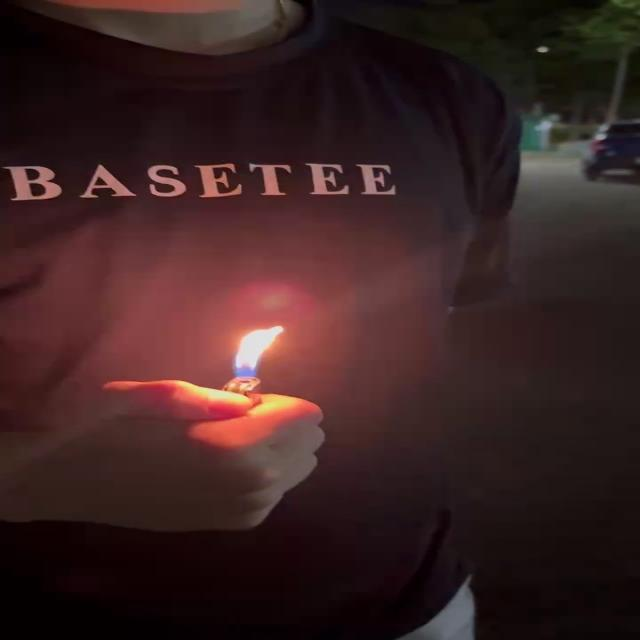Fire: (231, 326, 289, 384)
